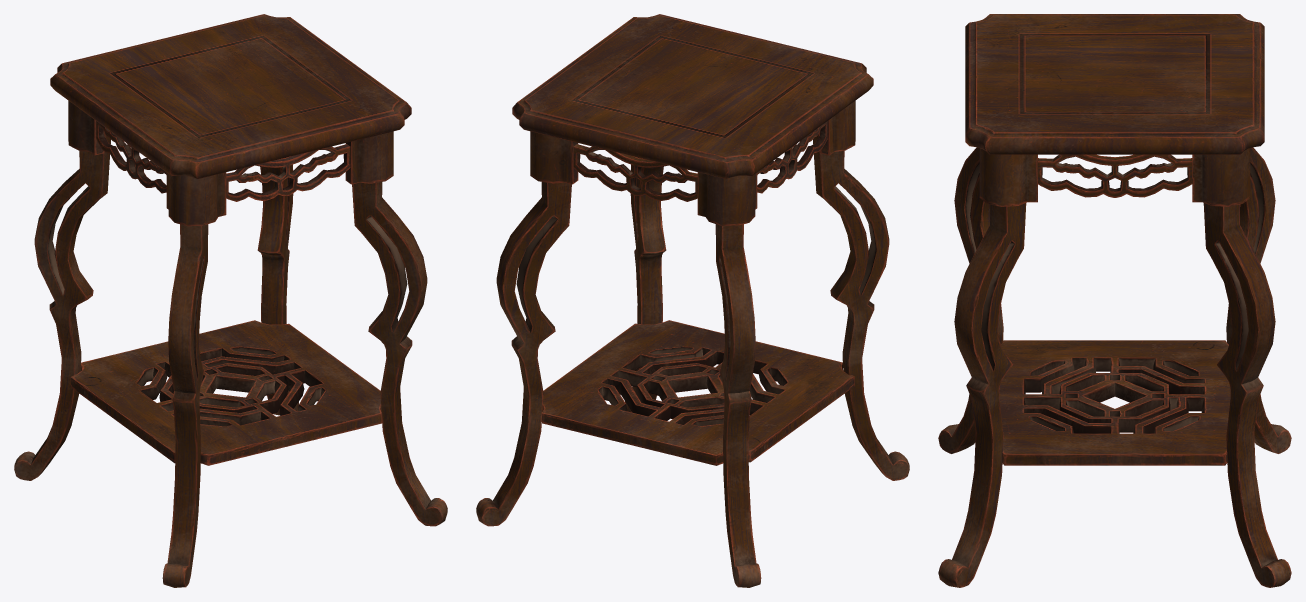
File: stool_flower_pot.glb
3 views of the same model, side by side, from view 1: azimuth 30°, elevation 25°; view 2: azimuth 150°, elevation 25°; view 3: azimuth 270°, elevation 25° (orthographic). The views are drawn at different scales.
Visible parts, largest first — view 1: Object_2; view 2: Object_2; view 3: Object_2.
Boxes of the visible parts, x1,y1,x2,y2 form: Object_2: (14,14,447,587); Object_2: (476,14,909,587); Object_2: (938,14,1291,587).
Bounding box in the file's own units: 14.55 × 20.18 × 14.55.
1 material, 1 textured.
